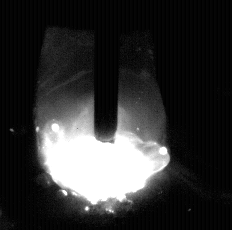arame: (95, 0, 119, 143)
poca: (38, 0, 168, 230)
